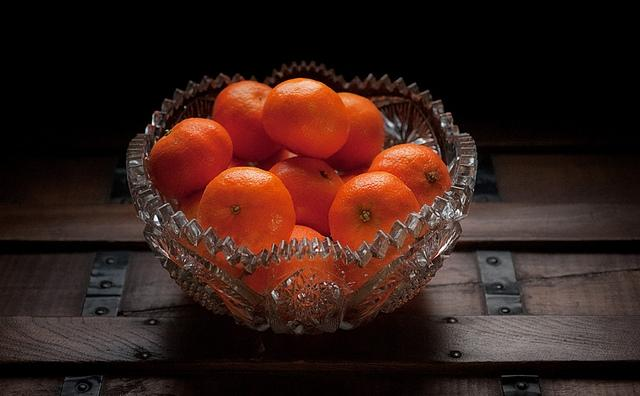orange: (198, 166, 296, 268), (328, 171, 421, 253), (262, 77, 350, 159), (146, 118, 235, 198), (268, 156, 344, 237), (210, 81, 282, 163), (367, 144, 452, 210), (322, 92, 386, 172), (255, 148, 299, 172), (177, 188, 205, 222)
